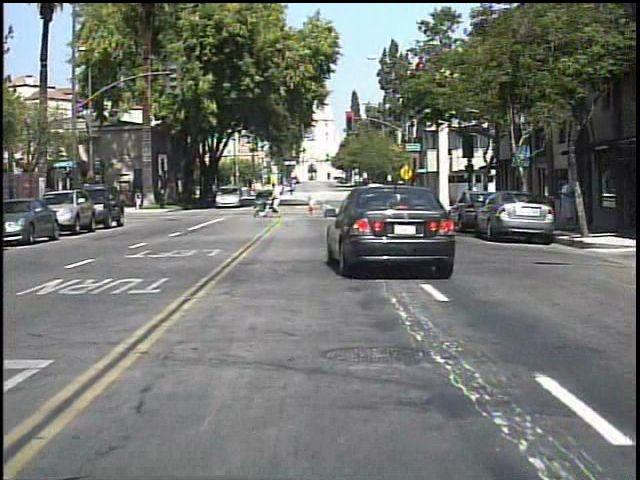person: (553, 172, 575, 234), (270, 180, 288, 220), (156, 183, 170, 212), (133, 187, 144, 213)
